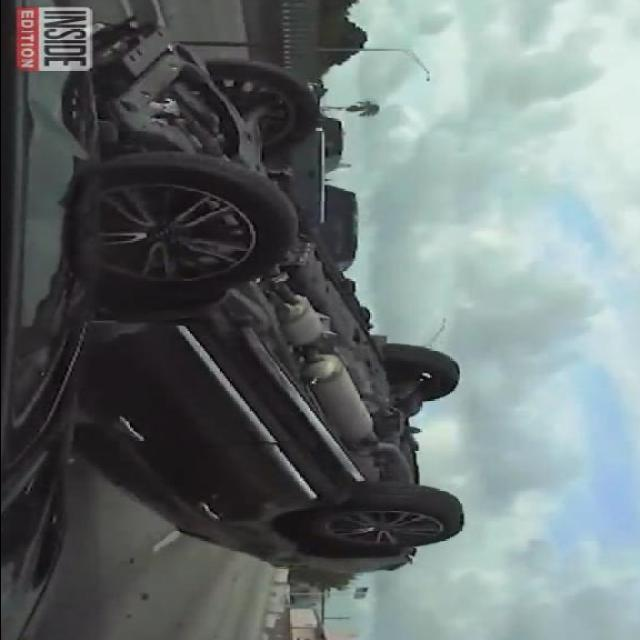accident: (86, 27, 474, 581)
